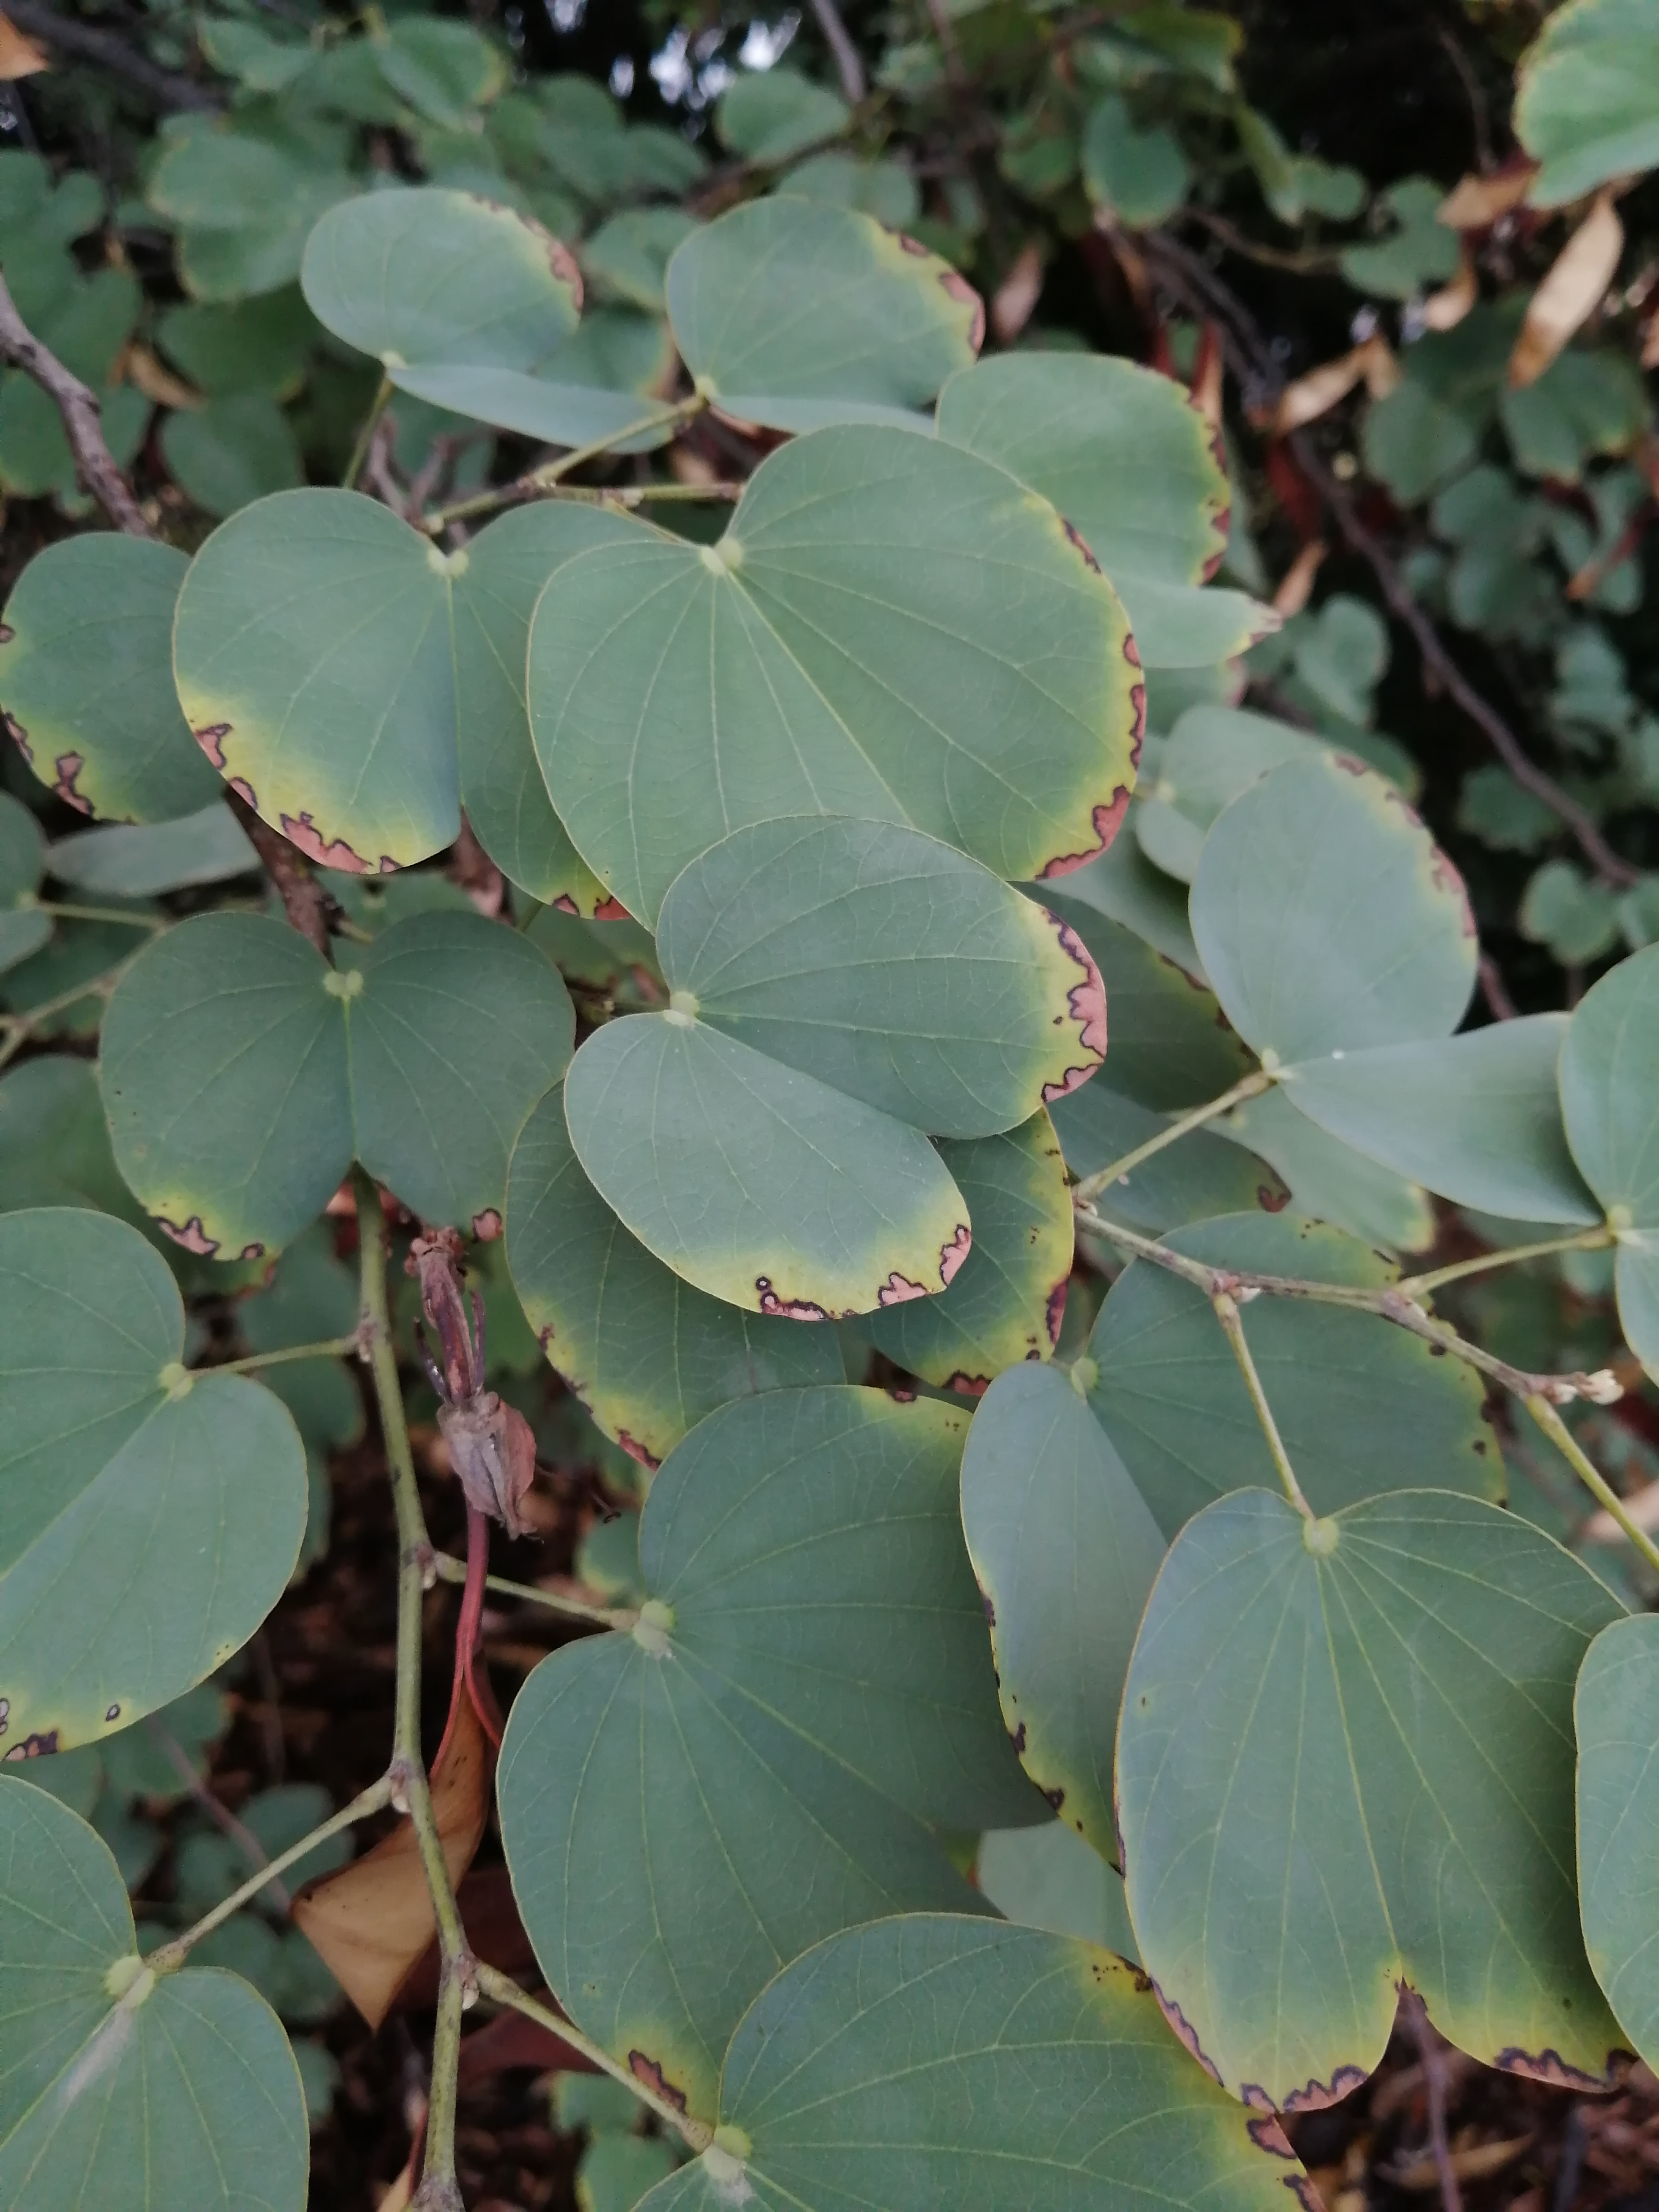nothealthy: (512, 430, 1173, 991), (1087, 1467, 1645, 2125), (558, 801, 1124, 1329), (174, 472, 681, 913), (108, 895, 591, 1275)
